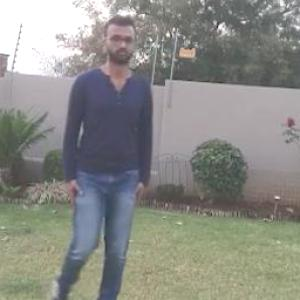follow: (66, 16, 160, 299)
